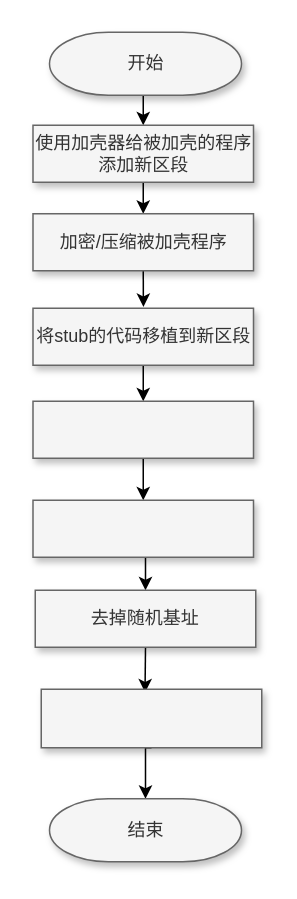
This 297x899 diagram has some shape labels left out. The centre of each missing label's shape, as x and y in pixels:
保存为新文件，加密完成: (x=152, y=720)
将被加壳程序的 EP 设置到新区段: (x=144, y=530)
将被加壳程序的 OEP 记录到 share.h 中: (x=144, y=431)
